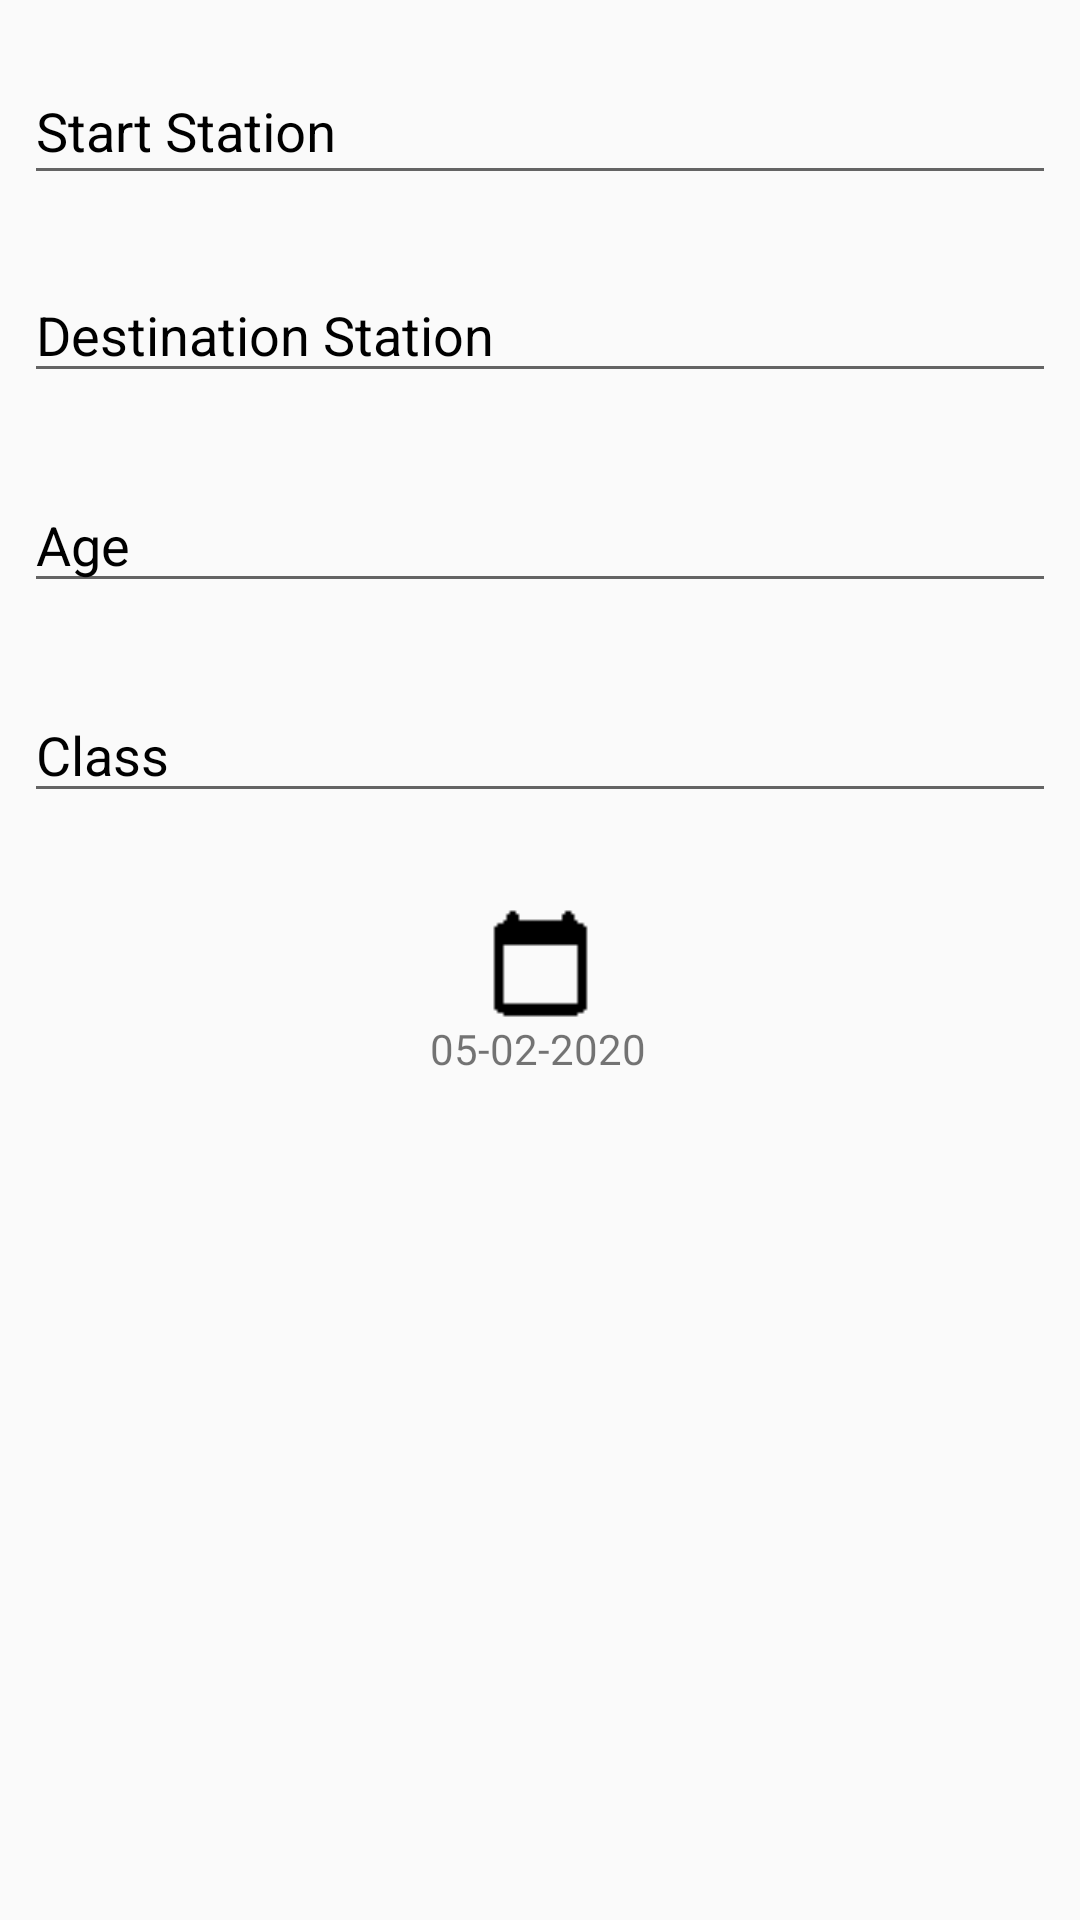

Icons on this 1080×1920 Android screen, each with its box as bbox=(x1, y1, x2, y2):
calendar: bbox=(493, 910, 588, 1017)
